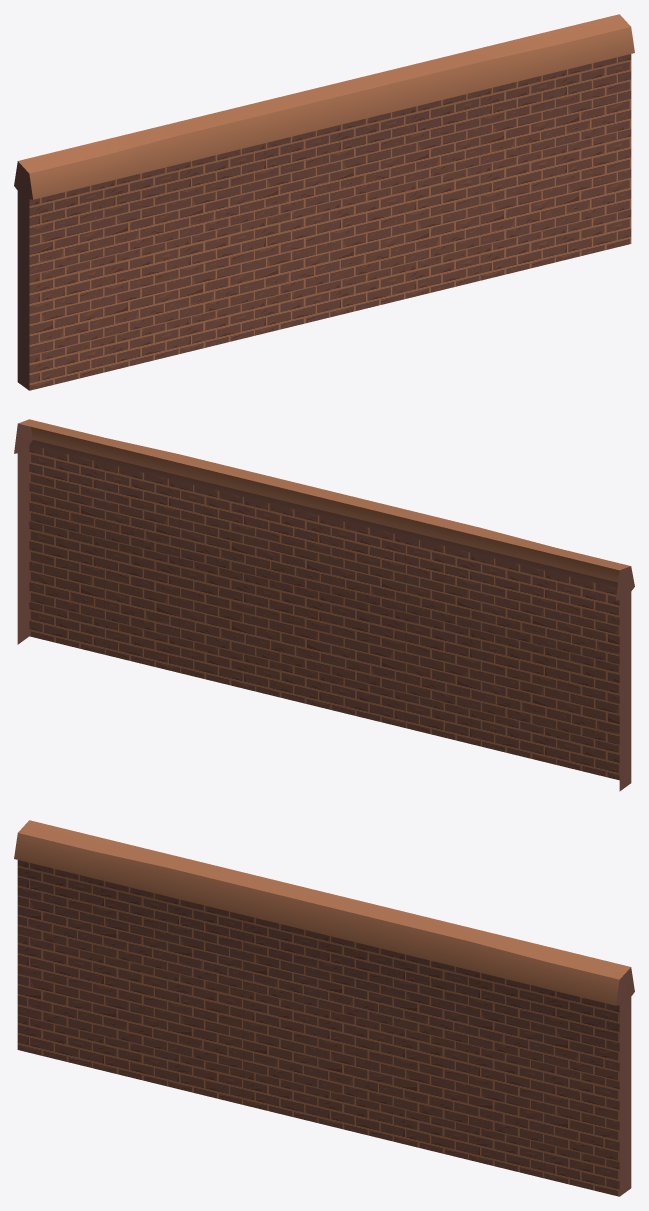
File: exterior_brick_wall.fbx
The picture shows the model from 3 angles, top to bottom: view 1: azimuth 30°, elevation 25°; view 2: azimuth 150°, elevation 25°; view 3: azimuth 330°, elevation 25°; orthographic projection.
Visible parts, largest first — view 1: exterior_brick_wall; view 2: exterior_brick_wall; view 3: exterior_brick_wall.
Part boxes in pixels (x1,y1,x2,y2): exterior_brick_wall: (14, 14, 634, 390); exterior_brick_wall: (14, 419, 634, 791); exterior_brick_wall: (14, 820, 634, 1196).
Size of the model in its own units: 1500 by 527 by 82.77.
